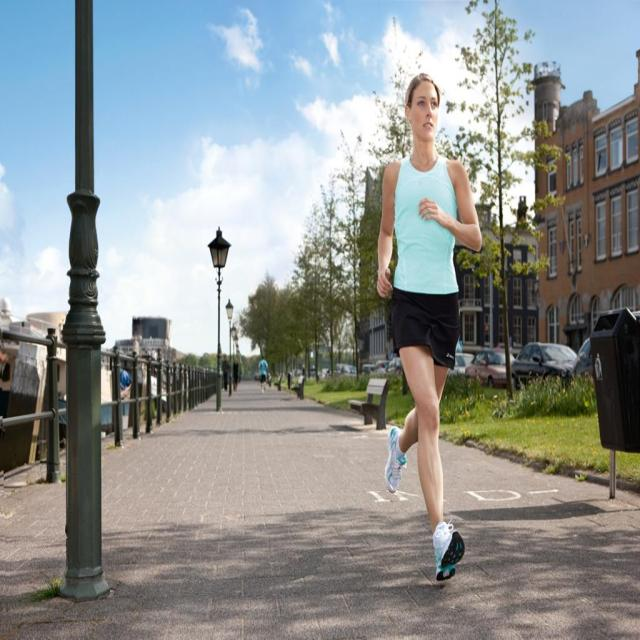Face: (411, 78, 447, 145)
